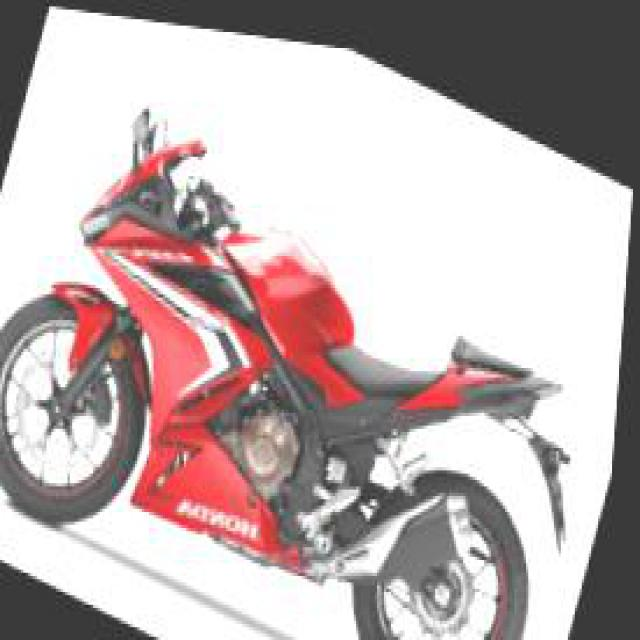CBR500R: (0, 48, 622, 638)
